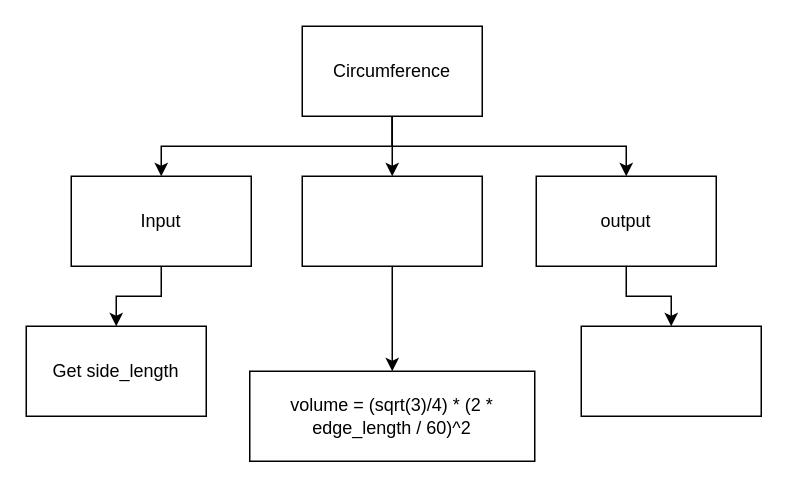
The diagram is 788 pixels wide and 488 high, and some of its shapes have lost their labels. Here are the shapes that lost their labels. From the top down, the centre of each, then its label:
pixel 391 220: Process
pixel 670 370: Display volume
